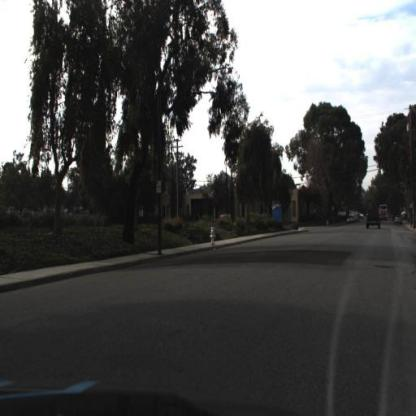car: (365, 205, 383, 231)
